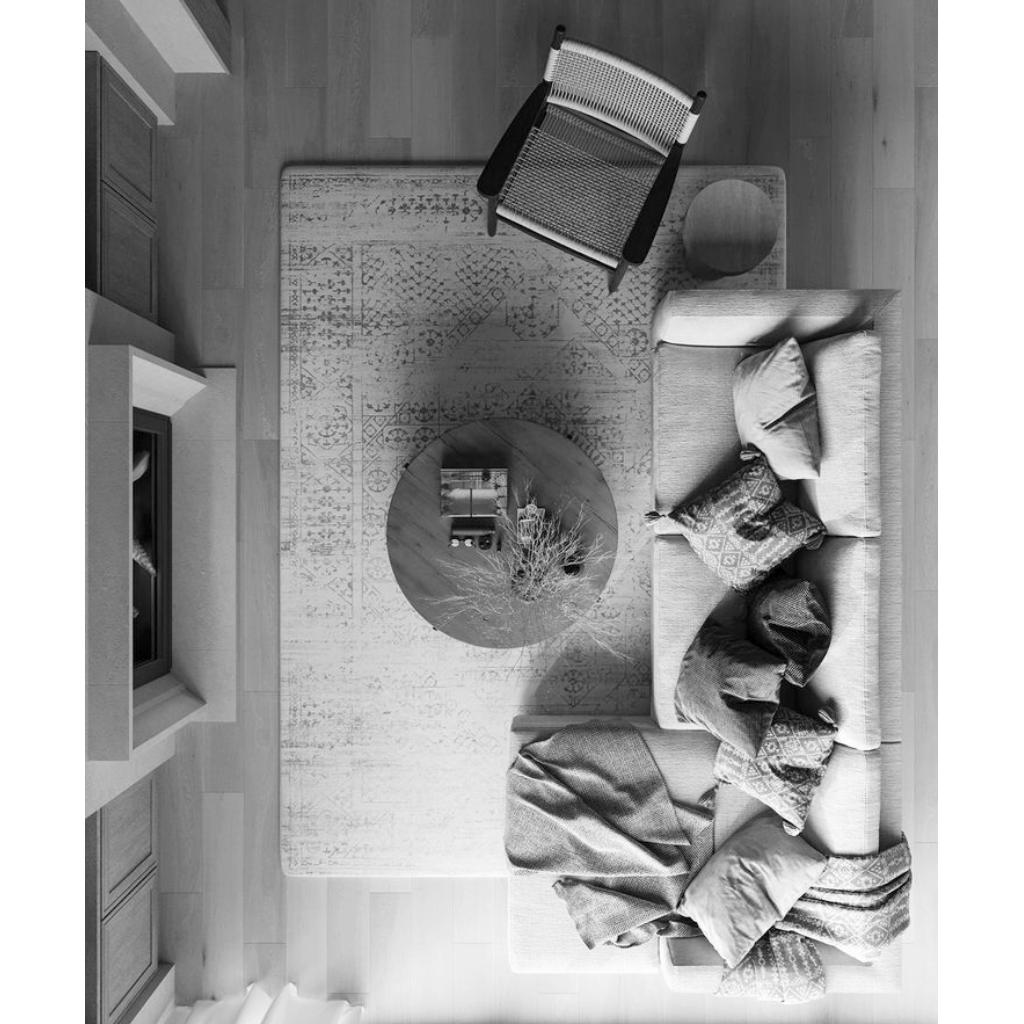cabinet: (90, 54, 174, 338), (91, 778, 175, 1024)
chair: (480, 38, 658, 274)
chair-bed: (510, 730, 904, 992)
coffee table: (386, 416, 622, 648)
fireplace: (91, 347, 241, 763)
rug: (281, 164, 787, 878)
side table: (682, 178, 782, 278)
sofa: (661, 289, 901, 725)
window: (184, 1011, 936, 1023)
